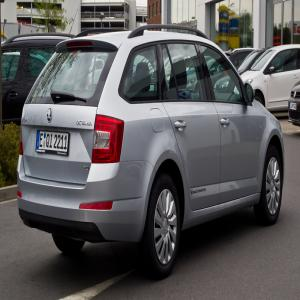Vehicle-registration-plate: (40, 121, 68, 162), (291, 102, 298, 110)
